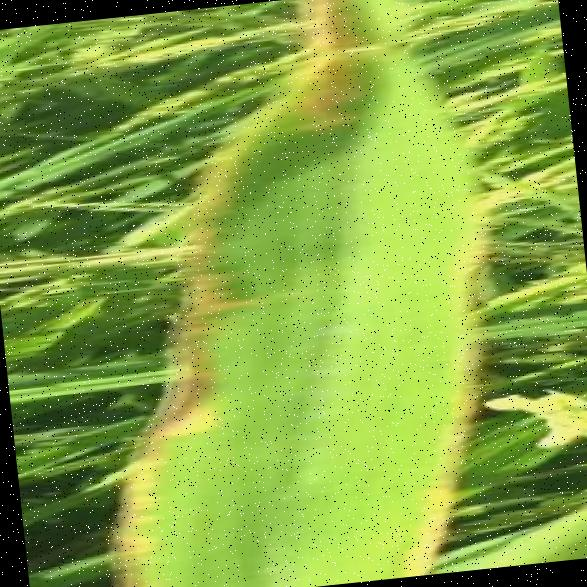Bacteria_Leaf_Blight: (122, 0, 510, 587)
